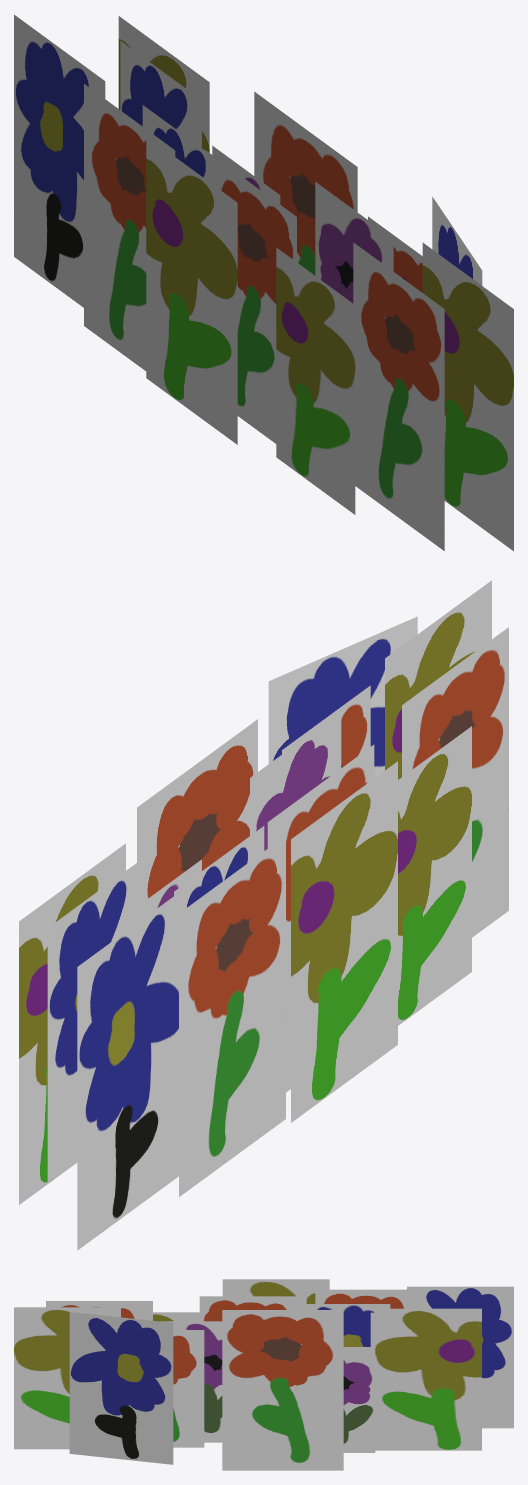
The model's file is Flower1.glb.
3 views of the same model, one above another, from view 1: azimuth 30°, elevation 25°; view 2: azimuth 150°, elevation 25°; view 3: azimuth 270°, elevation 25° (orthographic). The views are drawn at different scales.
Parts seen in each view (by area): view 1: Flower1; view 2: Flower1; view 3: Flower1.
Part boxes in pixels (x1,y1,x2,y2): Flower1: (14,14,513,551); Flower1: (19,580,508,1250); Flower1: (14,1279,513,1470).
Bounding box in the file's own units: 0.718 × 1.23 × 3.48.
1 material, 1 textured.
